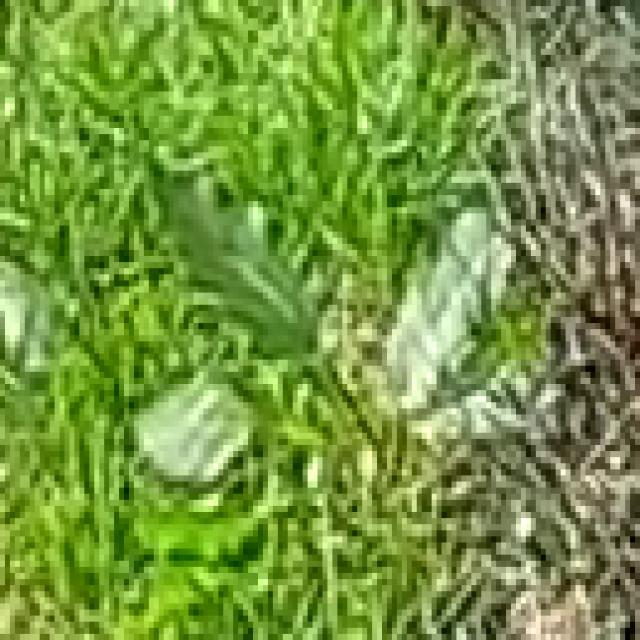organic waste: (35, 104, 590, 585)
